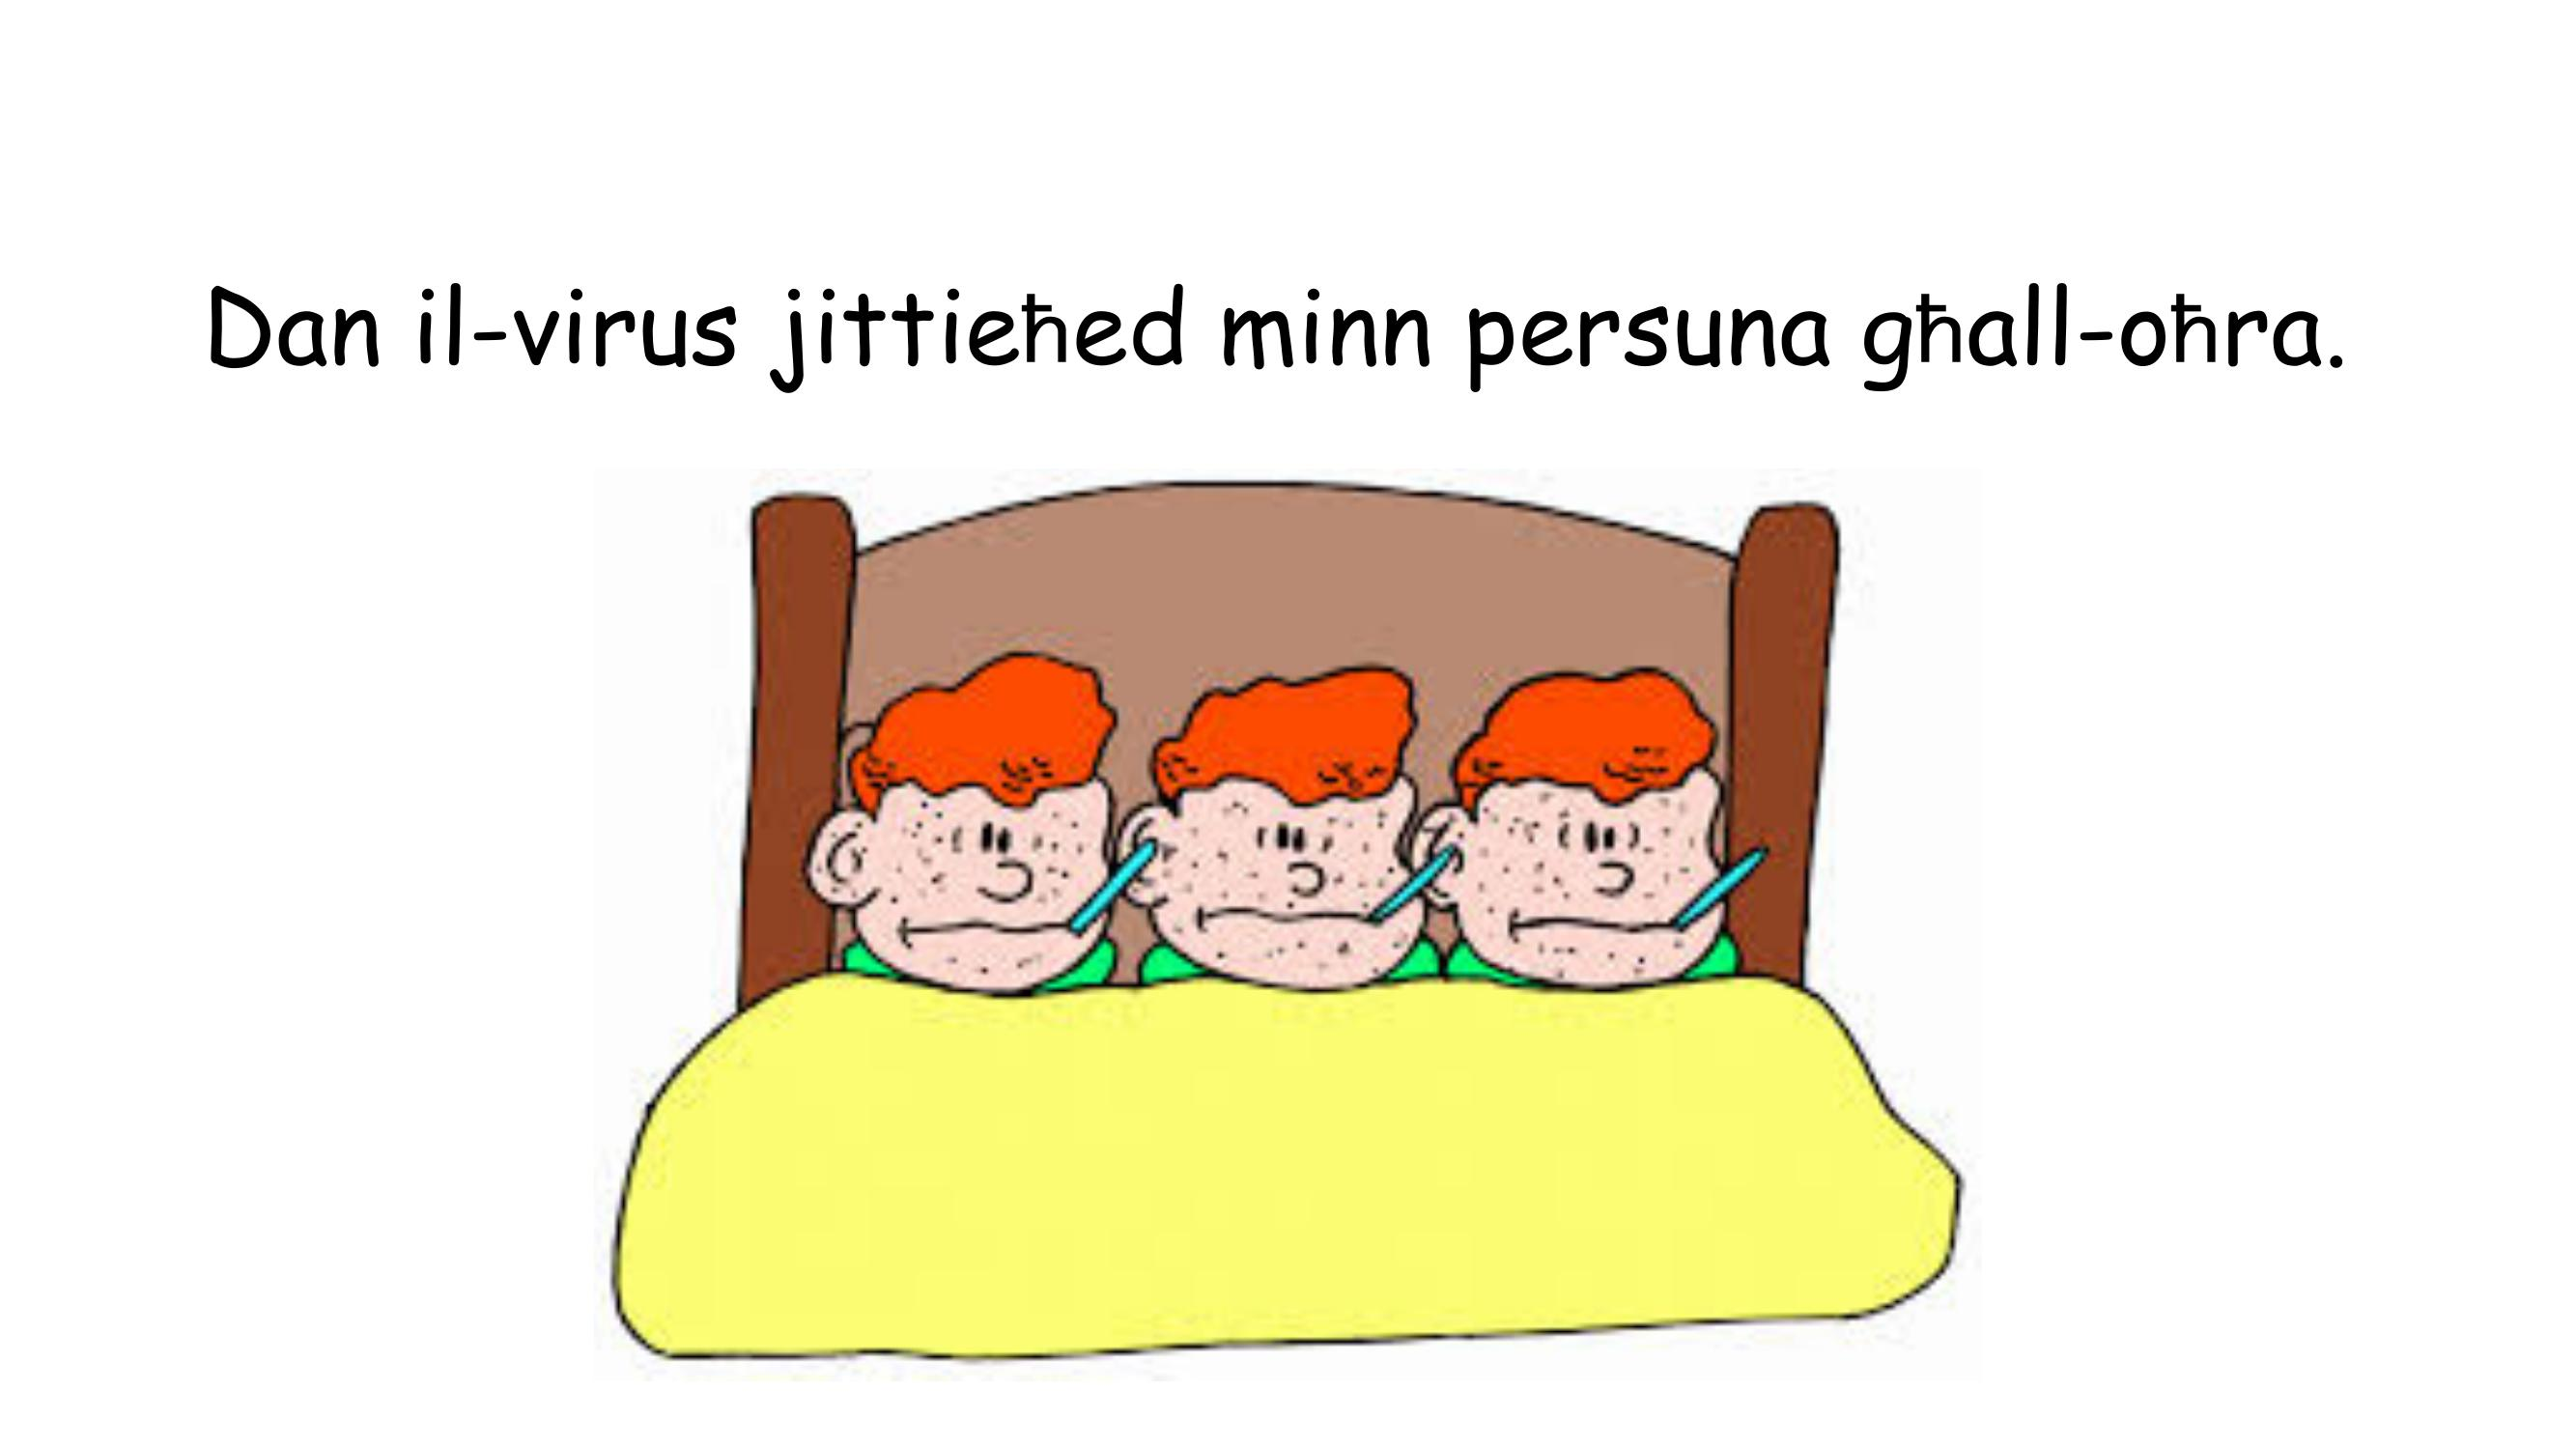text: (154, 242, 2367, 418)
